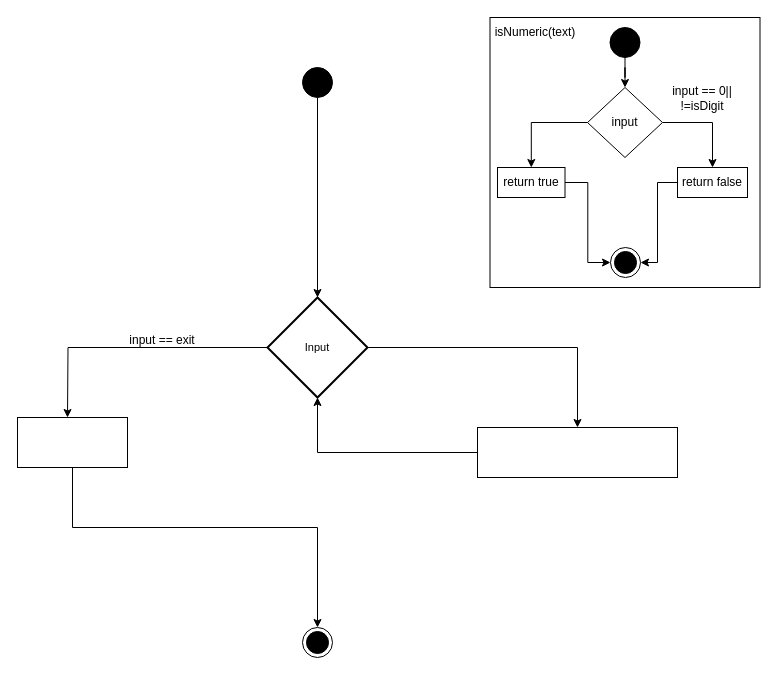
The diagram is 778 pixels wide and 675 high, and some of its shapes have lost their labels. Here are the shapes that lost their labels. From the top down, the box of each, then its label:
(16, 416, 128, 468): exit
(476, 426, 678, 478): System.out.println(hasOnlyDigits)
